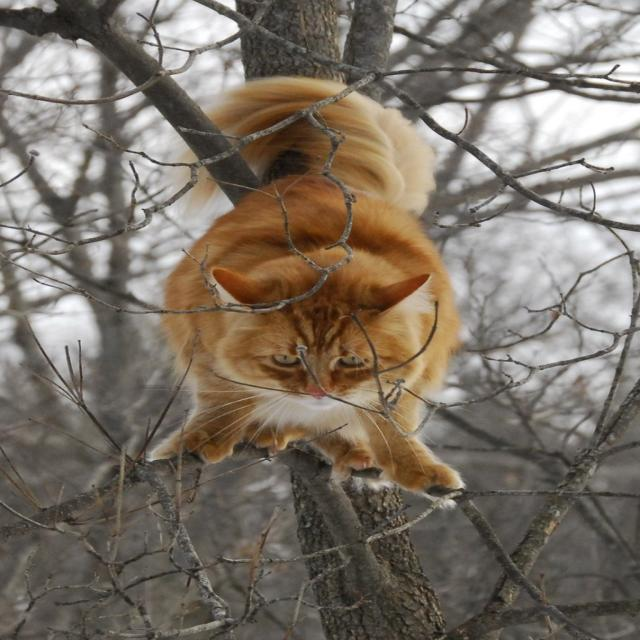Cat: (146, 73, 466, 508)
